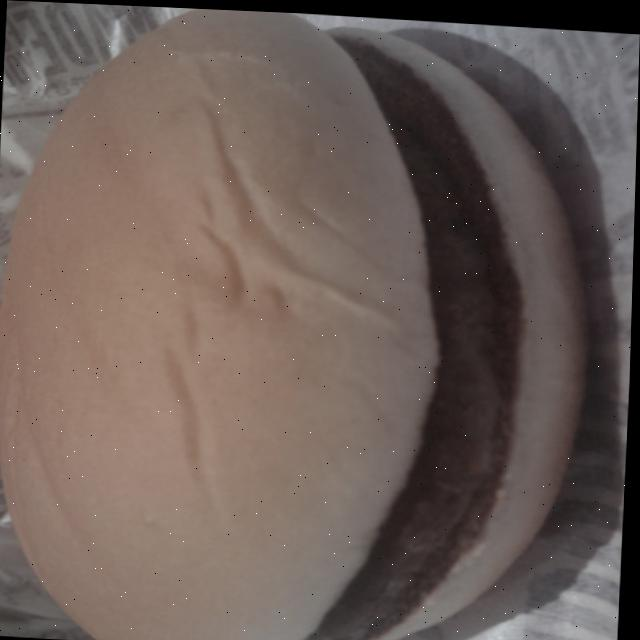汉堡快餐: (1, 1, 571, 640)
